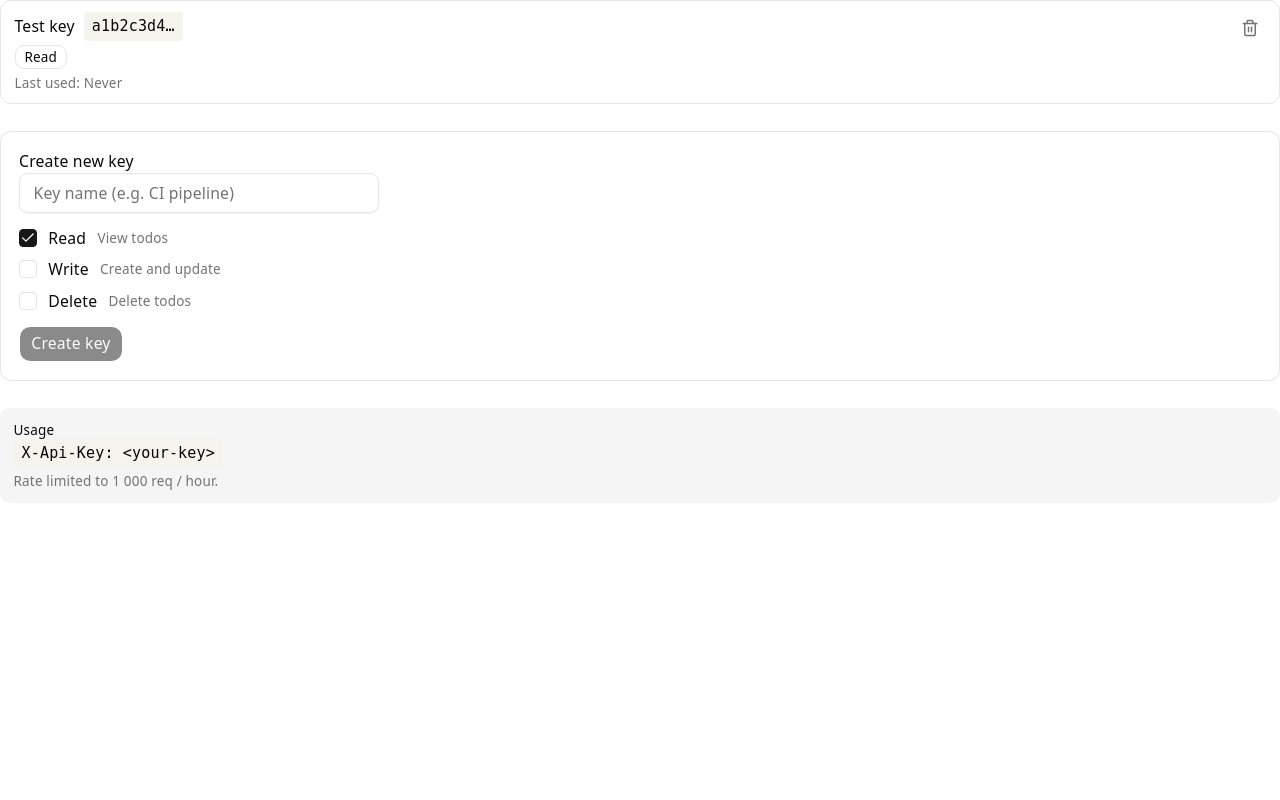
Test case: ApiKeysSection › creates key and shows one-time key value banner
Expected: the text "Test key" is shown, [14,15,75,38]
Type "My CI key" into the field with placeholder "Key name (e.g. CI pipeline)".
click(199, 193); type("My CI key")  # box [19,173,379,213]
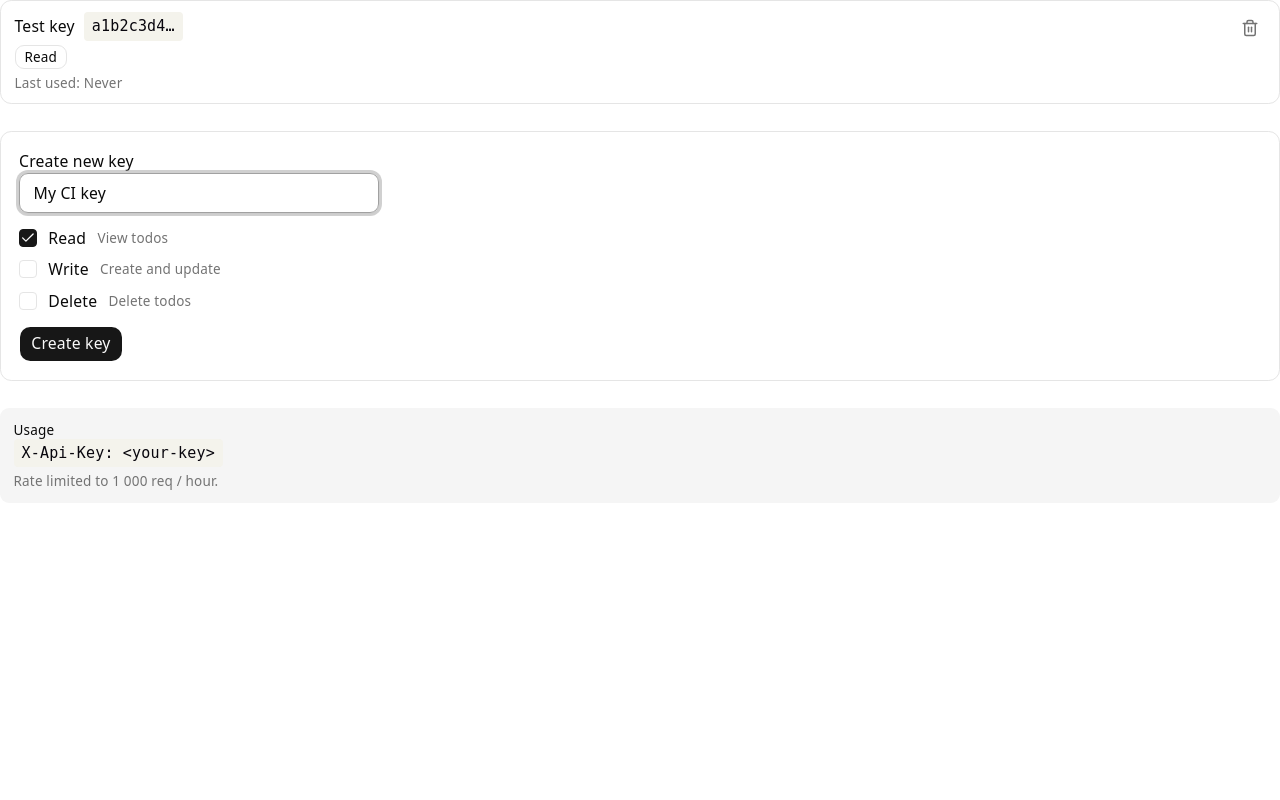
Click the button "Create key".
click(71, 344)  # box [19,326,123,362]
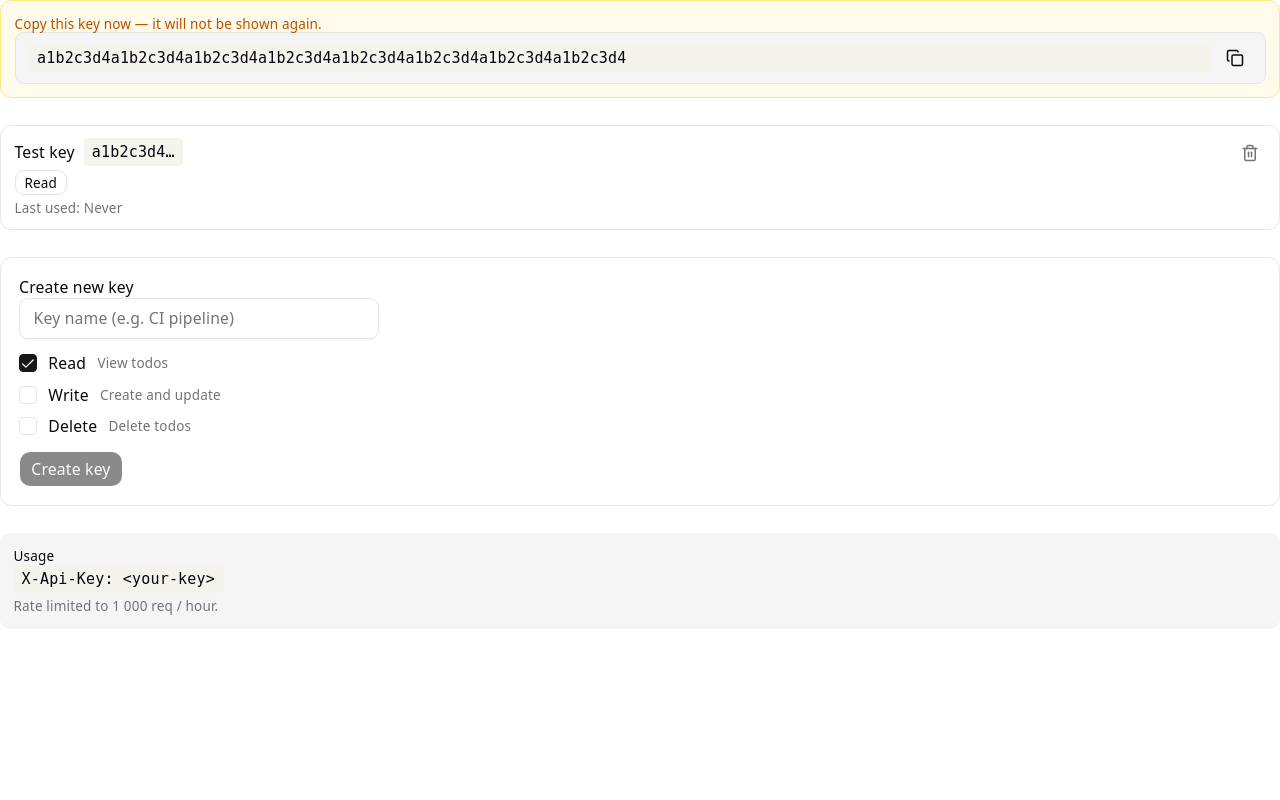
Expected: the text "Copy this key now — it will not be shown again." is shown, [14,14,322,32]
